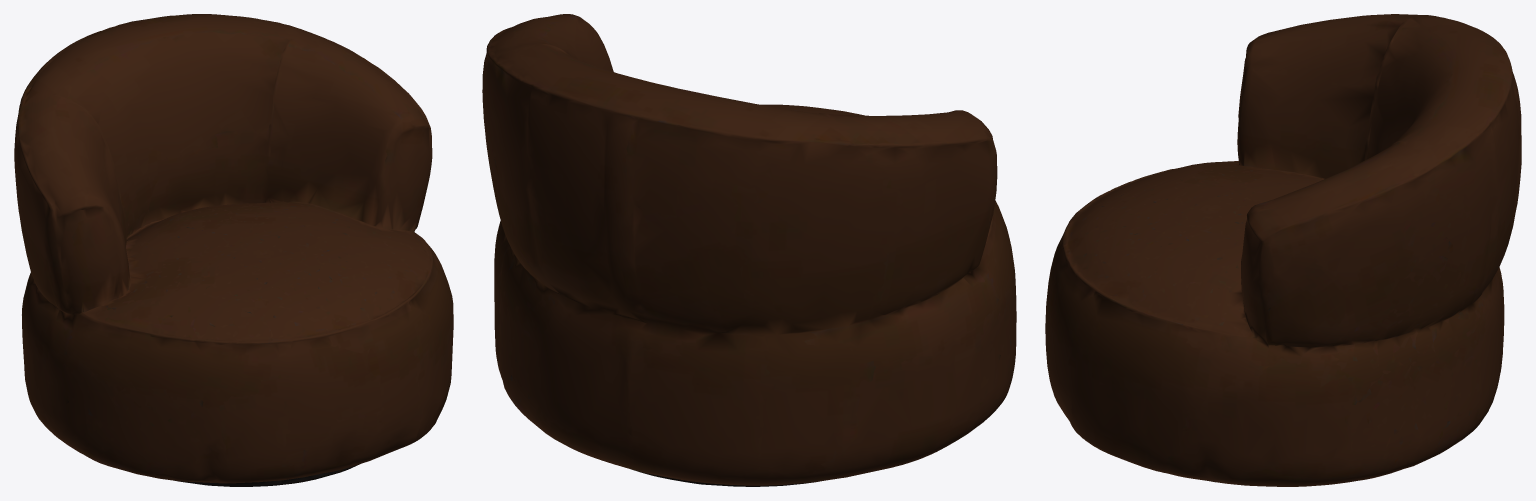
File: 7Yn5vJ731KI8sfmipsae6.glb
3 renders of one model, left to right at view 1: azimuth 30°, elevation 25°; view 2: azimuth 150°, elevation 25°; view 3: azimuth 270°, elevation 25°, orthographic. The views are drawn at different scales.
Parts seen in each view (by area): view 1: geometry_0; view 2: geometry_0; view 3: geometry_0.
Boxes of the visible parts, <box> form: geometry_0: <box>14,14,453,486</box>; geometry_0: <box>482,14,1016,486</box>; geometry_0: <box>1045,14,1521,486</box>.
Bounding box in the file's own units: 1 × 0.8052 × 1.
Materials: 1 (1 with a texture image).
